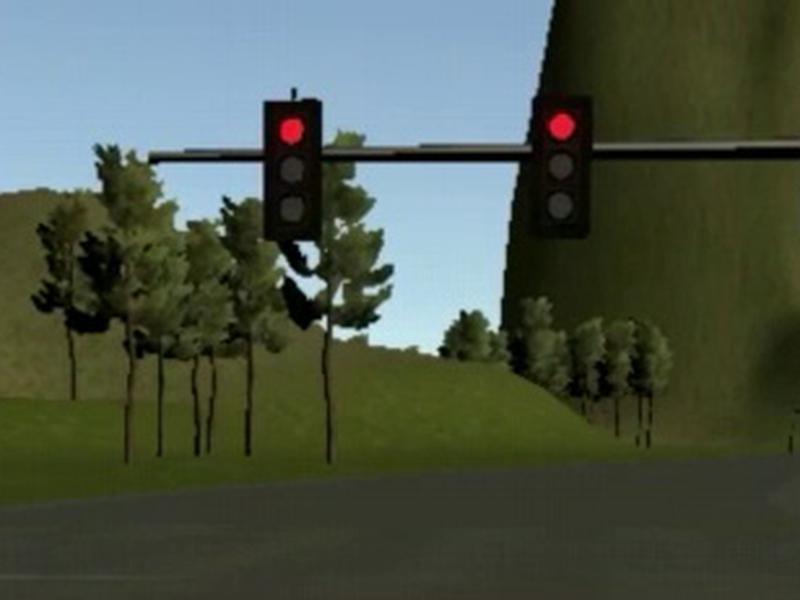Red: (531, 97, 587, 236), (267, 105, 316, 239)
